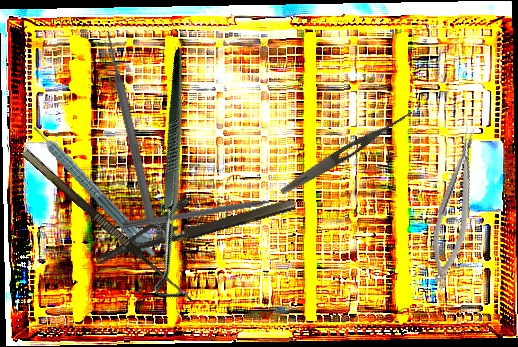Dressing Forceps: (277, 105, 416, 199)
Handpiece: (29, 117, 164, 260)
Hook Surgical: (63, 46, 294, 308), (21, 139, 204, 307)
Needle Holder: (86, 171, 297, 265), (421, 125, 491, 287)
Pusher: (101, 29, 158, 222), (122, 194, 297, 231)
